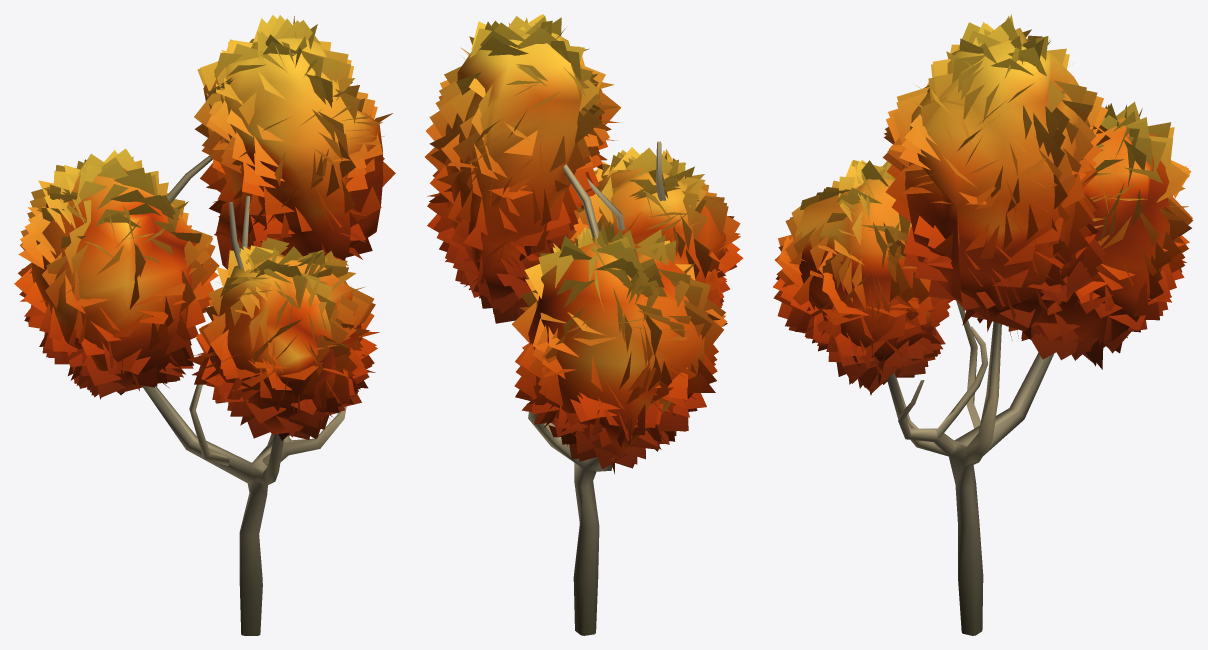
File: Forest_Tree_1A.fbx
The picture shows the model from 3 angles, left to right: view 1: azimuth 30°, elevation 25°; view 2: azimuth 150°, elevation 25°; view 3: azimuth 270°, elevation 25°; orthographic projection. The views are drawn at different scales.
Parts seen in each view (by area): view 1: Forest_Tree_1A; view 2: Forest_Tree_1A; view 3: Forest_Tree_1A.
Boxes of the visible parts, left/top/right/bottom form: Forest_Tree_1A: left=14, top=15, right=395, bottom=635; Forest_Tree_1A: left=425, top=14, right=743, bottom=635; Forest_Tree_1A: left=773, top=14, right=1193, bottom=635.
Size of the model in its own units: 296 by 536 by 327.
